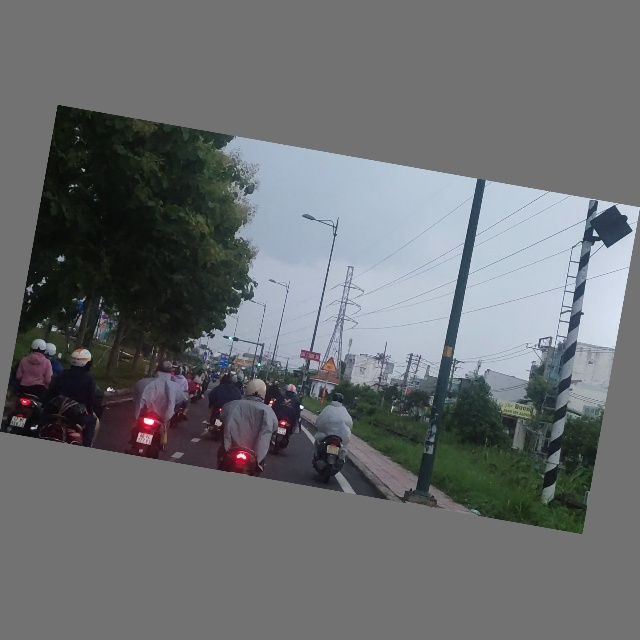W.210: (320, 355, 340, 374)
